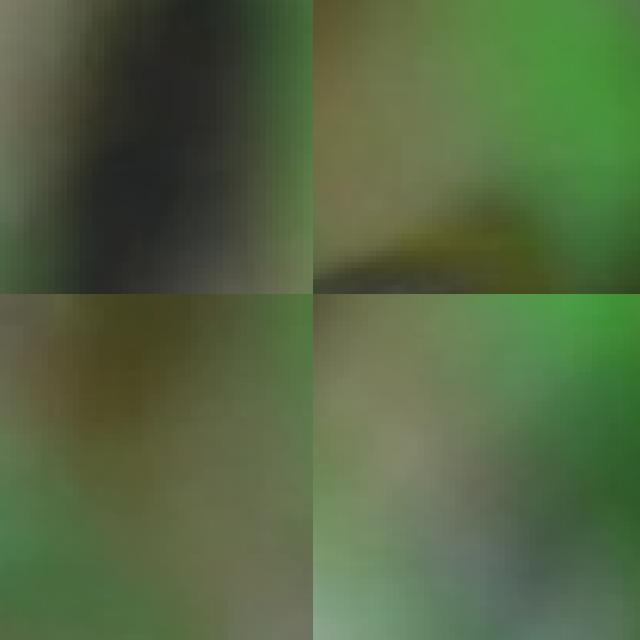fish: (0, 0, 313, 294), (313, 0, 544, 294)
